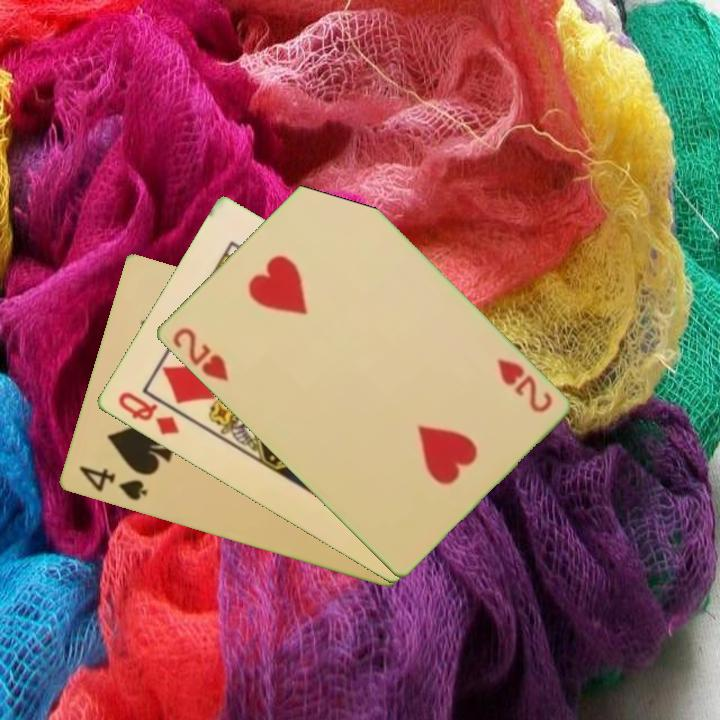2h: (168, 324, 231, 385), (492, 355, 555, 415)
4s: (74, 462, 150, 504)
Qd: (114, 388, 182, 439)
